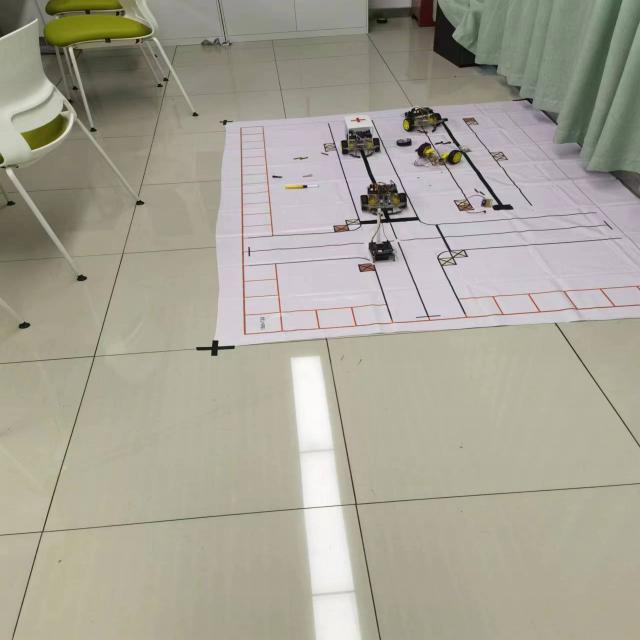RedCross: (349, 116, 366, 124)
